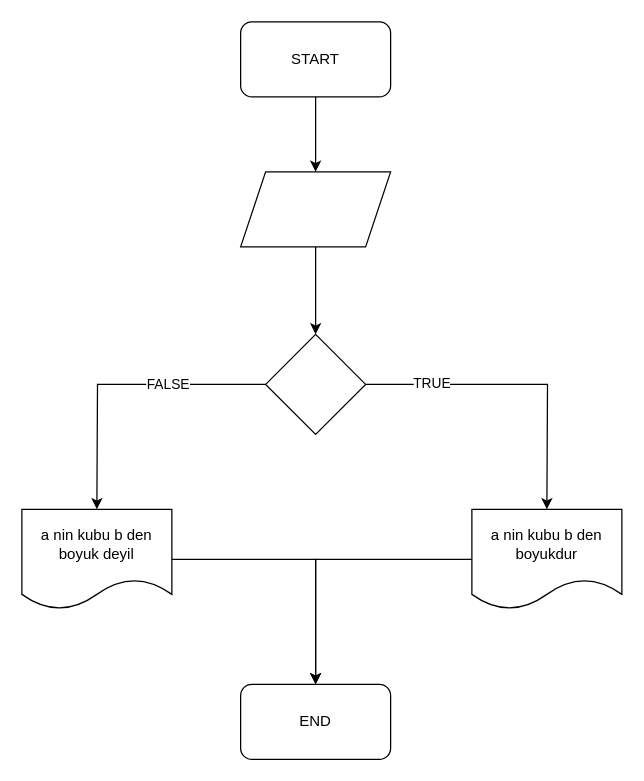
This 644x781 diagram has some shape labels left out. The centre of each missing label's shape, as x and y in pixels:
"a ** 3 > b" goes at (315,383).
"a, b" goes at (315,209).
